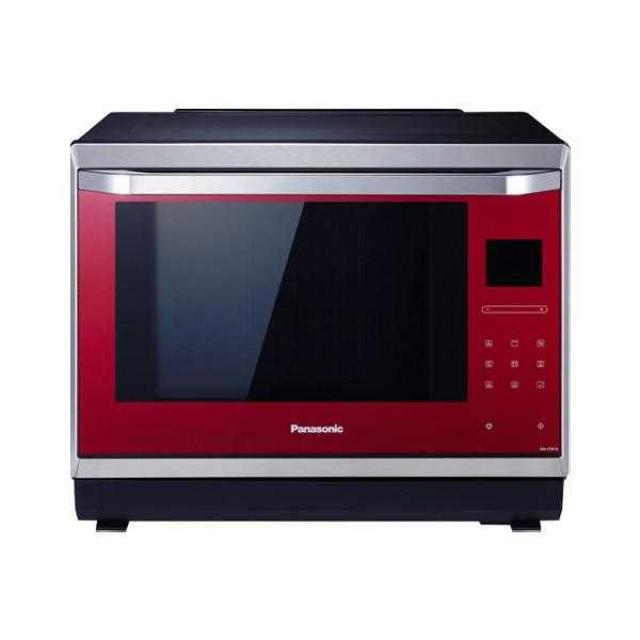Oven: (68, 135, 582, 532)
